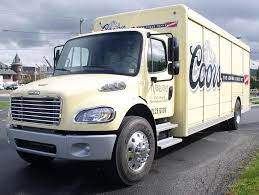truck: (5, 4, 251, 185)
